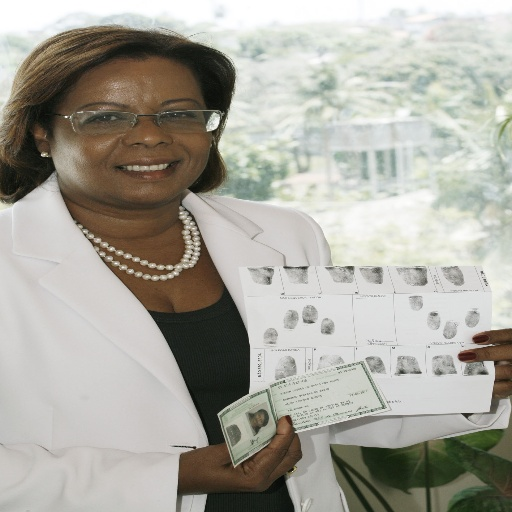hand: (198, 405, 309, 491), (456, 325, 511, 399)
